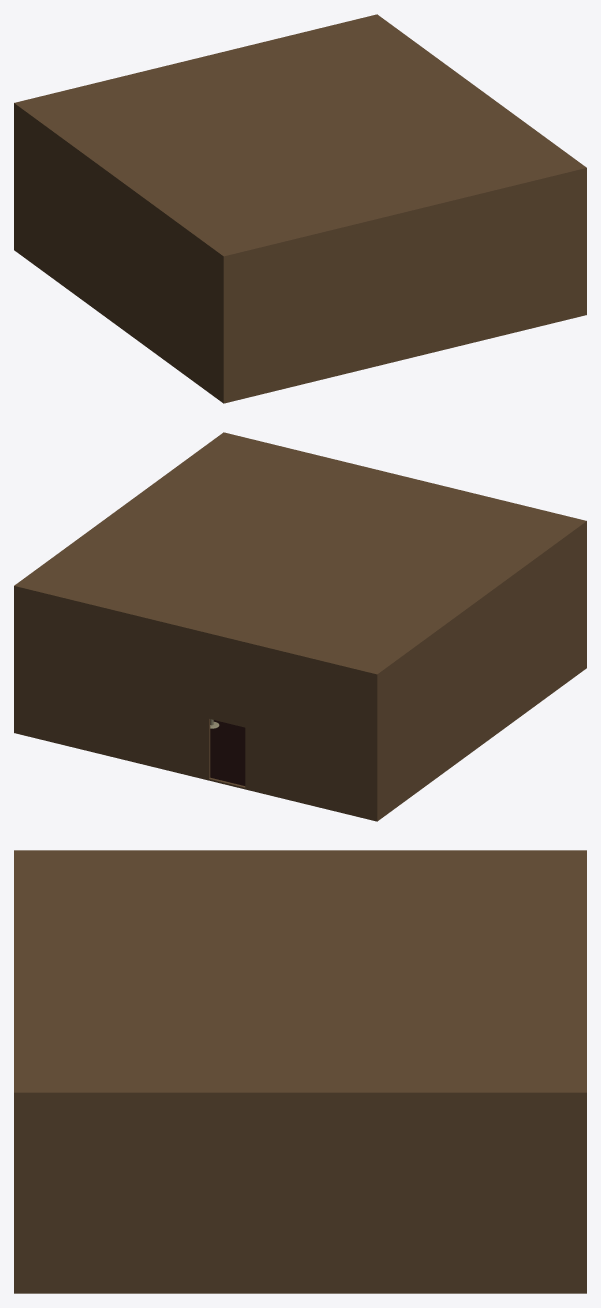
The model's file is level.fbx.
3 views of the same model, one above another, from view 1: azimuth 30°, elevation 25°; view 2: azimuth 150°, elevation 25°; view 3: azimuth 270°, elevation 25° (orthographic). The views are drawn at different scales.
Visible parts, largest first — view 1: zemin, ust_duvar; view 2: zemin, ust_duvar; view 3: ust_duvar, zemin.
Boxes of the visible parts, x1=… form: zemin: x1=14, y1=105, x2=586, y2=403; ust_duvar: x1=14, y1=14, x2=586, y2=258; zemin: x1=14, y1=523, x2=586, y2=821; ust_duvar: x1=14, y1=432, x2=586, y2=676; ust_duvar: x1=14, y1=850, x2=586, y2=1095; zemin: x1=14, y1=1095, x2=586, y2=1293.
Size of the model in its own units: 6001 by 2324 by 6001.
